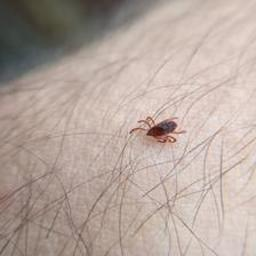Rhipicephalus sanguineus: (128, 117, 185, 145)
